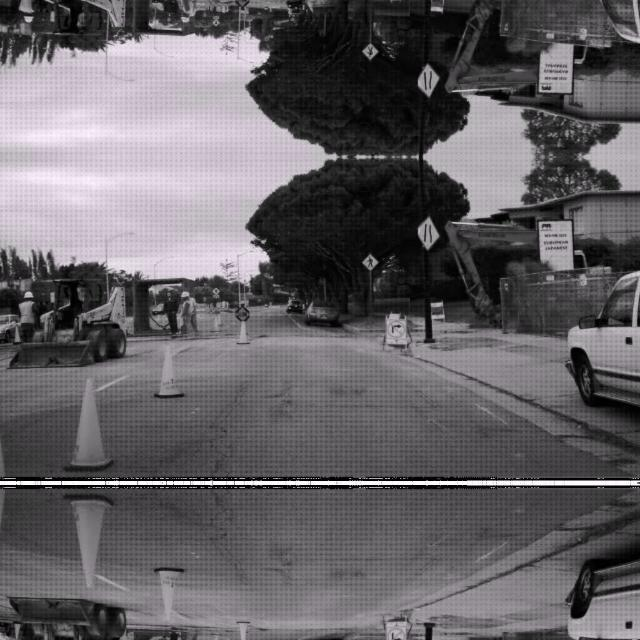pedestrianCrossing: (362, 252, 378, 270), (362, 42, 378, 60)
